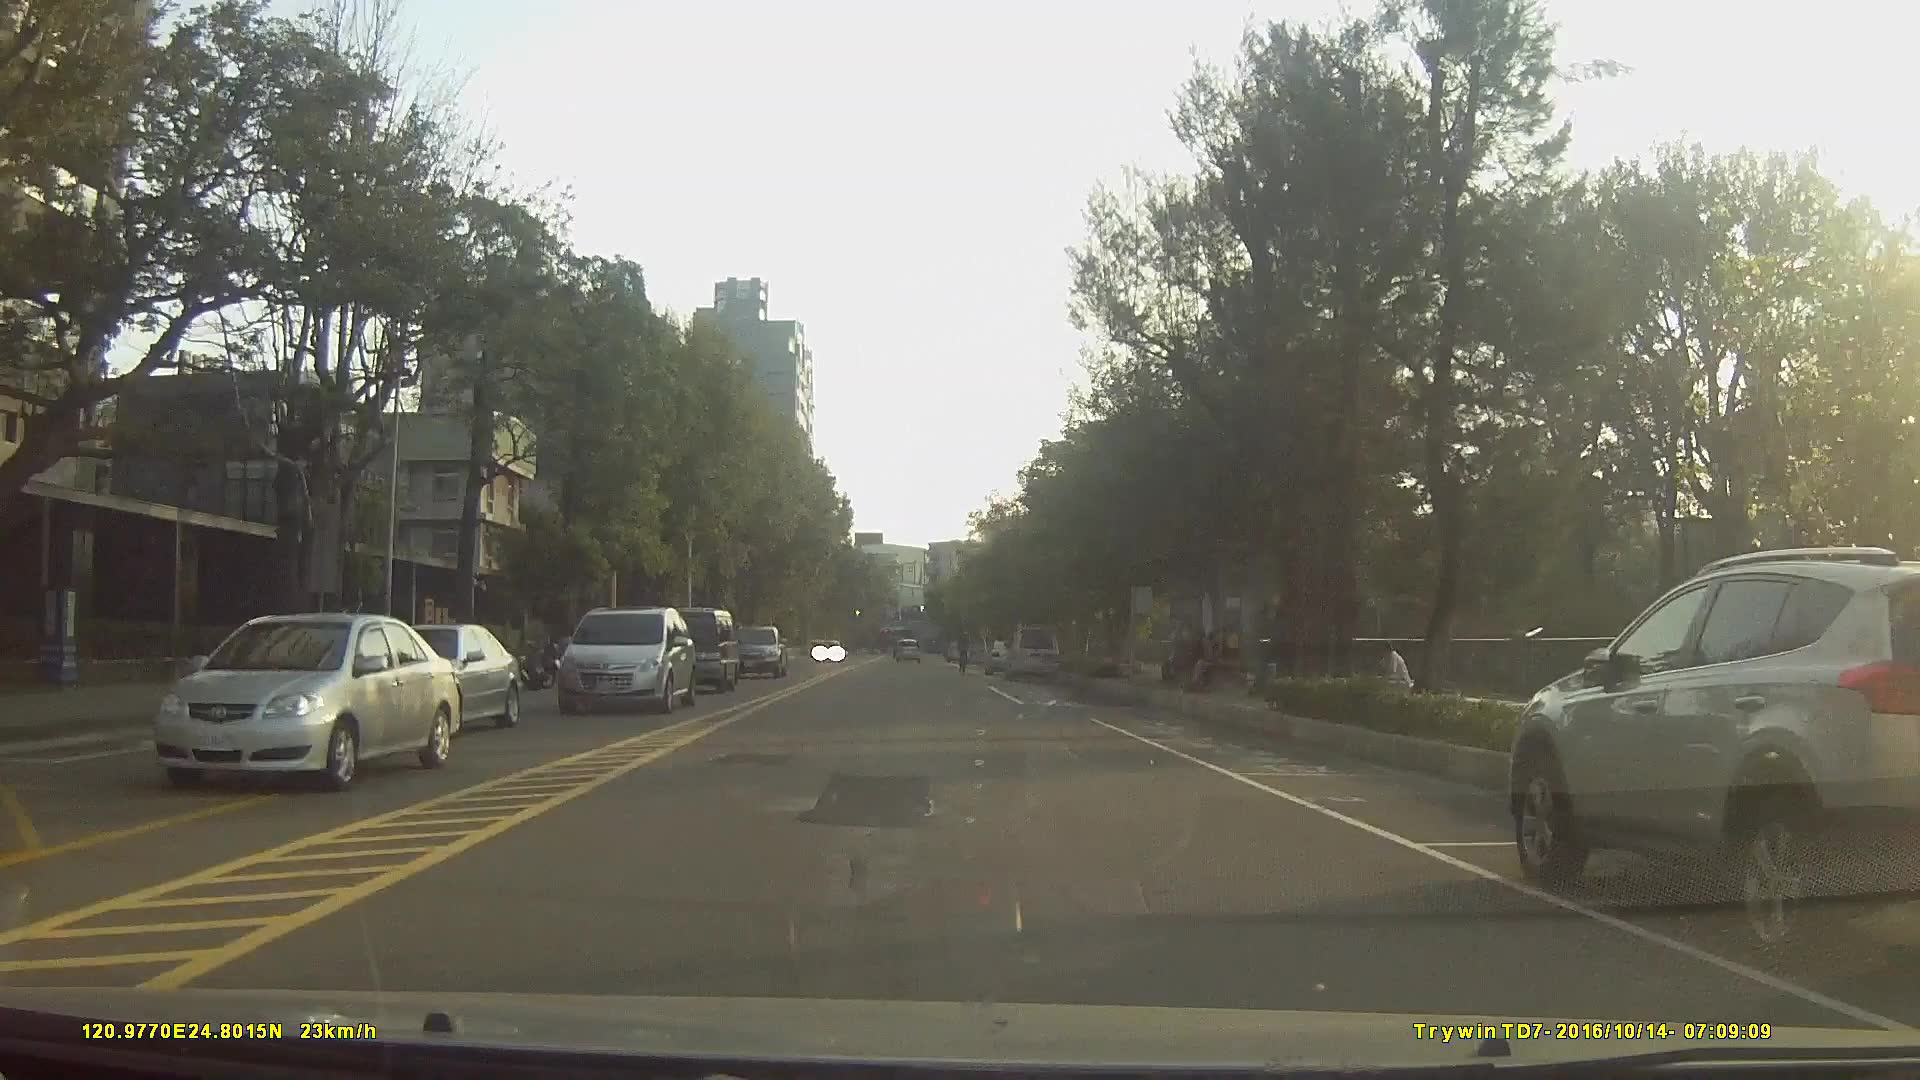rider: (954, 631, 974, 675)
vehicle: (1505, 545, 1920, 971), (151, 609, 460, 791), (365, 622, 522, 738), (554, 607, 697, 716), (645, 605, 737, 691), (999, 623, 1061, 682), (725, 624, 785, 678), (984, 637, 1021, 677), (891, 636, 921, 665)
